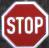Stop sign: (0, 0, 48, 47)
